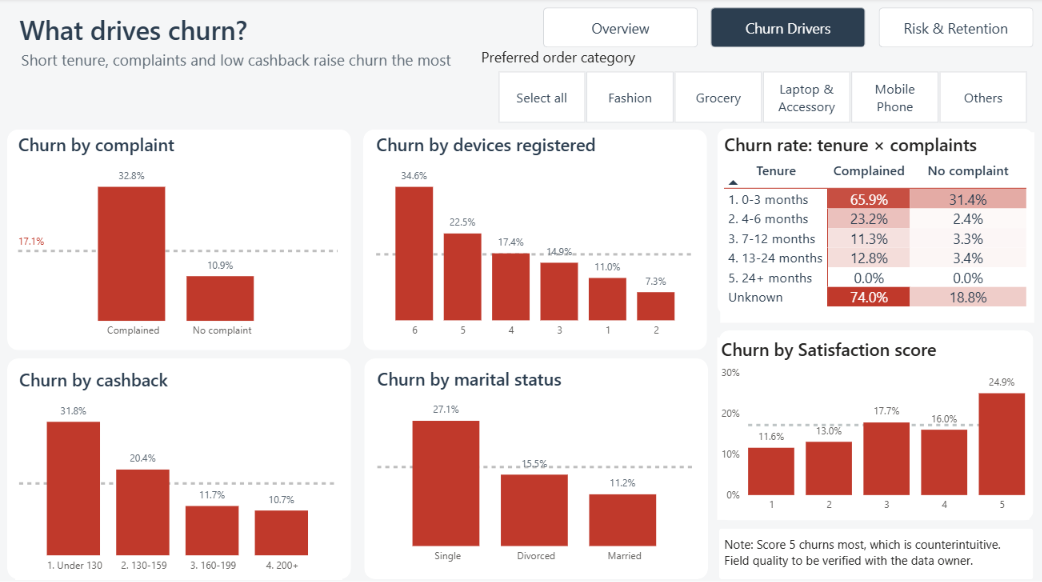

Layout of this report page (visuals, bound fields, positions):
{"tool":"powerbi","page":{"name":"Churn Drivers","canvas":[1280,720],"ordinal":1},"visuals":[{"type":"shape","box":[880.4,648.1,384,62.4],"z":0},{"type":"shape","box":[444.7,159.9,420.5,270],"z":1000},{"type":"shape","box":[446,440.6,420.5,270],"z":2000},{"type":"shape","box":[878,159,386.4,227.4],"z":3000},{"type":"shape","box":[9.4,159.9,420.5,270],"z":4000},{"type":"shape","box":[879.9,405.7,384.2,232.4],"z":5000},{"type":"clusteredColumnChart","title":"Churn by complaint","fields":{"Category":["customer_risk.Complaint Status"],"Y":["_Measures.Churn Rate"]},"box":[18.7,164,400.3,260.6],"z":6000},{"type":"shape","box":[9.4,440.6,420.5,270],"z":7000},{"type":"clusteredColumnChart","title":"Churn by devices registered","fields":{"Category":["customer_risk.devices_registered"],"Y":["_Measures.Churn Rate"]},"box":[456.1,164,400,260],"z":8000},{"type":"columnChart","title":"Churn by Satisfaction score ","fields":{"Category":["customer_risk.satisfaction_score"],"Y":["_Measures.Churn Rate"]},"box":[878.6,415.1,381.5,223],"z":9000},{"type":"clusteredColumnChart","title":"Churn by cashback","fields":{"Category":["customer_risk.cashback_bucket"],"Y":["_Measures.Churn Rate"]},"box":[20,450.7,400,260],"z":11000},{"type":"textbox","box":[20.2,12,720.1,44],"z":12000},{"type":"textbox","box":[21.5,58,760.4,34.9],"z":13000},{"type":"clusteredColumnChart","title":"Churn by marital status","fields":{"Category":["customer_risk.marital_status"],"Y":["_Measures.Churn Rate"]},"box":[456.8,450,399,249.9],"z":14000},{"type":"pageNavigator","box":[664.7,10.9,599.6,49.5],"z":15000},{"type":"slicer","title":"Preferred order category","fields":{"Values":["customer_risk.preferred_order_cat"]},"box":[584.5,59.9,695.8,99],"z":16000},{"type":"pivotTable","title":"Churn rate: tenure × complaints","fields":{"Rows":["customer_risk.tenure_bucket"],"Columns":["customer_risk.Complaint Status"],"Values":["_Measures.Churn Rate"]},"box":[881.3,163.9,384.2,232.4],"z":17000},{"type":"textbox","box":[881.3,651.6,380.2,55.1],"z":18000}]}

Visuals, with their boxes in screenshot pixels (x1, y1, x2, y2), scaled from the page's 1280x720 canvas onto the 1042x582 screenshot:
shape: <region>717, 524, 1029, 574</region>
shape: <region>362, 129, 704, 348</region>
shape: <region>363, 356, 705, 574</region>
shape: <region>715, 129, 1029, 312</region>
shape: <region>8, 129, 350, 348</region>
shape: <region>716, 328, 1029, 516</region>
"Churn by complaint" clusteredColumnChart: <region>15, 133, 341, 343</region>
shape: <region>8, 356, 350, 574</region>
"Churn by devices registered" clusteredColumnChart: <region>371, 133, 697, 343</region>
"Churn by Satisfaction score " columnChart: <region>715, 336, 1026, 516</region>
"Churn by cashback" clusteredColumnChart: <region>16, 364, 342, 574</region>
textbox: <region>16, 10, 603, 45</region>
textbox: <region>18, 47, 637, 75</region>
"Churn by marital status" clusteredColumnChart: <region>372, 364, 697, 566</region>
pageNavigator: <region>541, 9, 1029, 49</region>
"Preferred order category" slicer: <region>476, 48, 1041, 128</region>
"Churn rate: tenure × complaints" pivotTable: <region>717, 132, 1030, 320</region>
textbox: <region>717, 527, 1027, 571</region>
